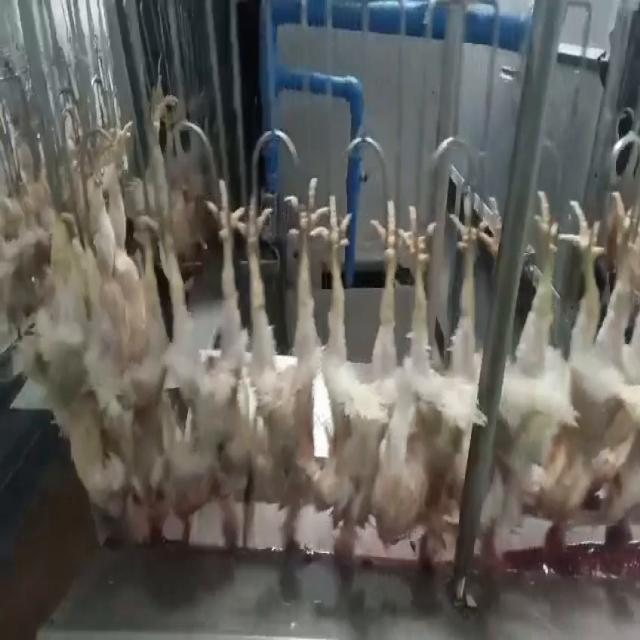chicken: (380, 201, 492, 580), (316, 195, 408, 574), (240, 172, 325, 562), (513, 193, 598, 561), (132, 200, 199, 547), (588, 186, 639, 562), (191, 186, 242, 548)
